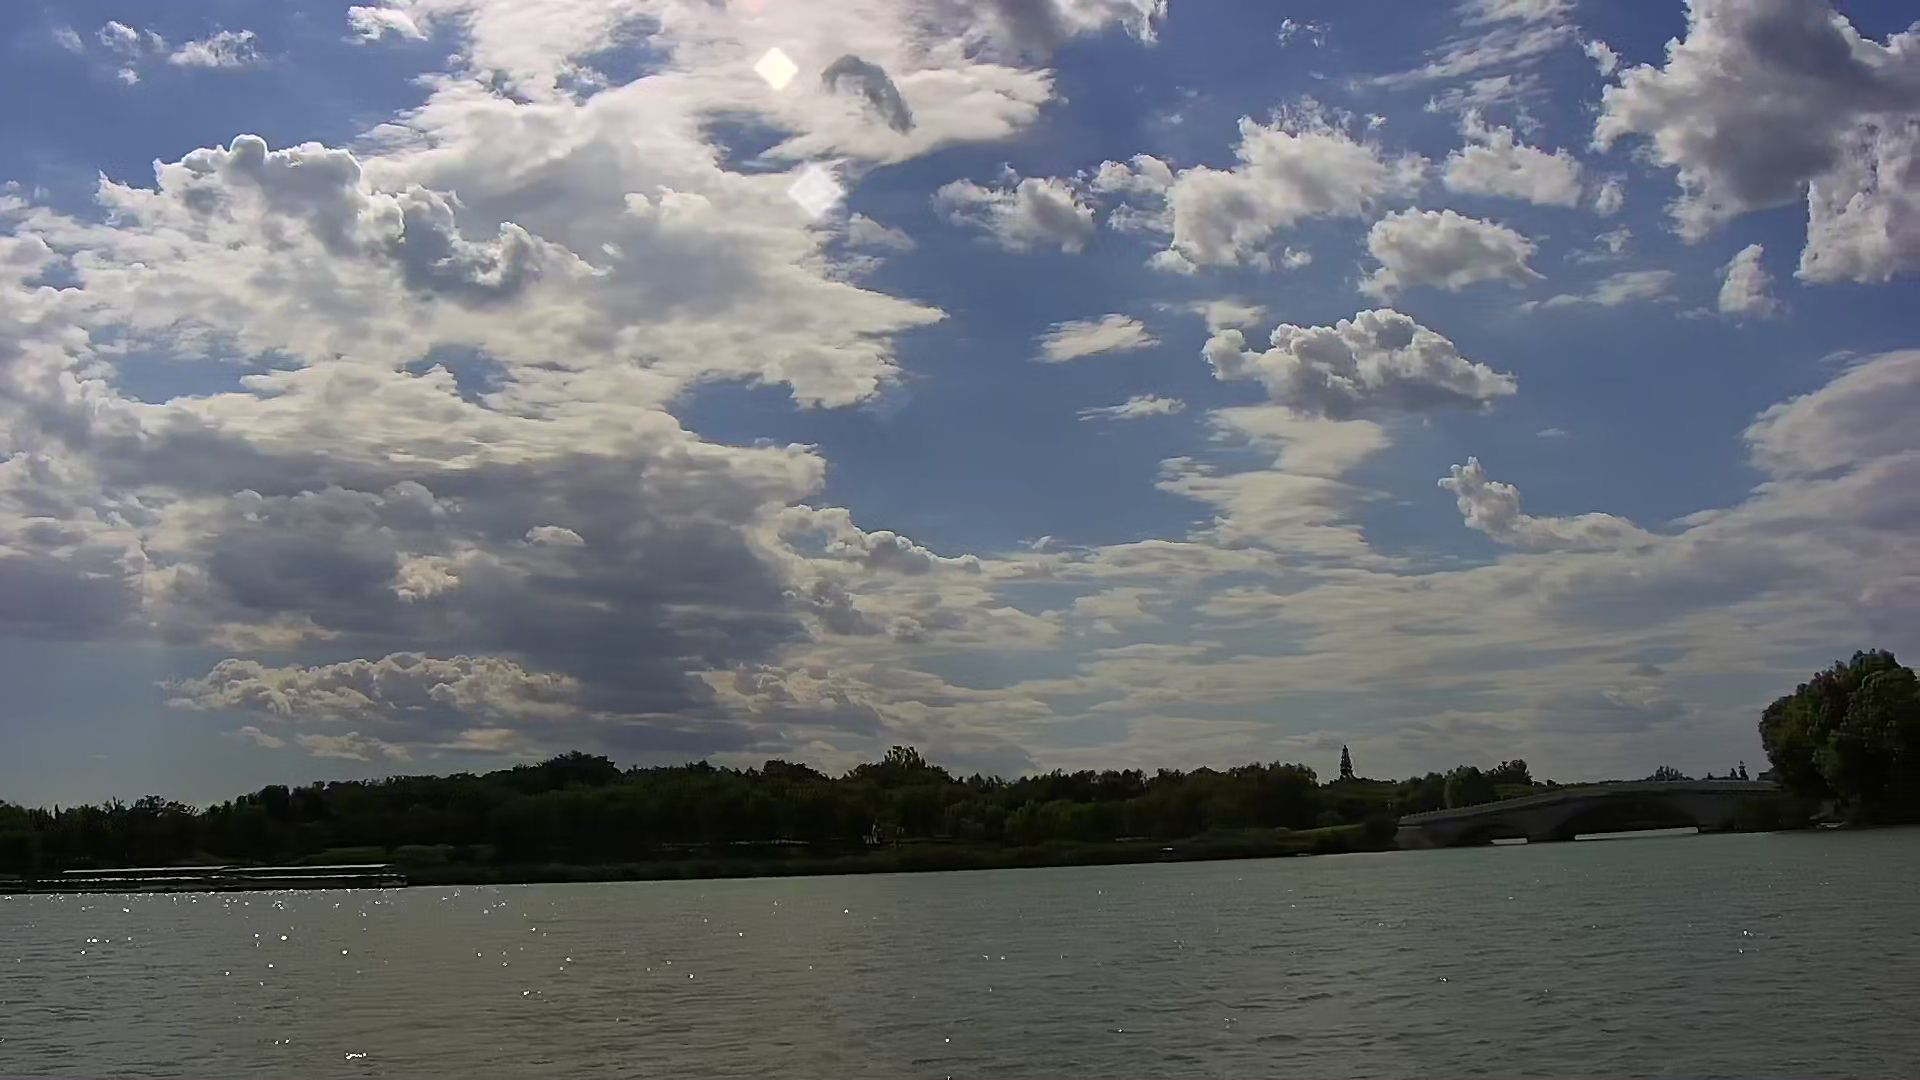bridge: (1433, 777, 1792, 848)
harbor: (49, 858, 405, 895)
